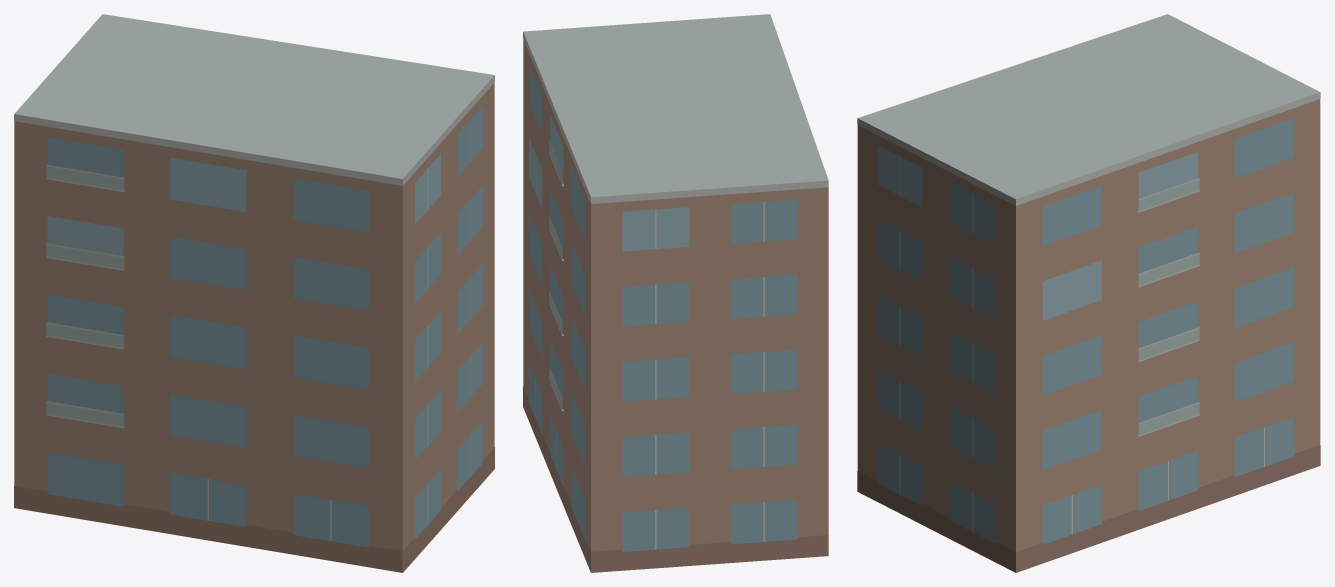
File: survey-upis-32886715.glb
3 views of the same model, side by side, from view 1: azimuth 30°, elevation 25°; view 2: azimuth 150°, elevation 25°; view 3: azimuth 270°, elevation 25° (orthographic). The views are drawn at different scales.
Parts seen in each view (by area): view 1: survey-upis-32886715.tmp; view 2: survey-upis-32886715.tmp; view 3: survey-upis-32886715.tmp.
Part boxes in pixels (bbox=[...]): survey-upis-32886715.tmp: bbox=[14, 14, 494, 572]; survey-upis-32886715.tmp: bbox=[523, 14, 828, 572]; survey-upis-32886715.tmp: bbox=[857, 14, 1320, 572].
Bounding box in the file's own units: 14.59 × 13.7 × 15.4.
